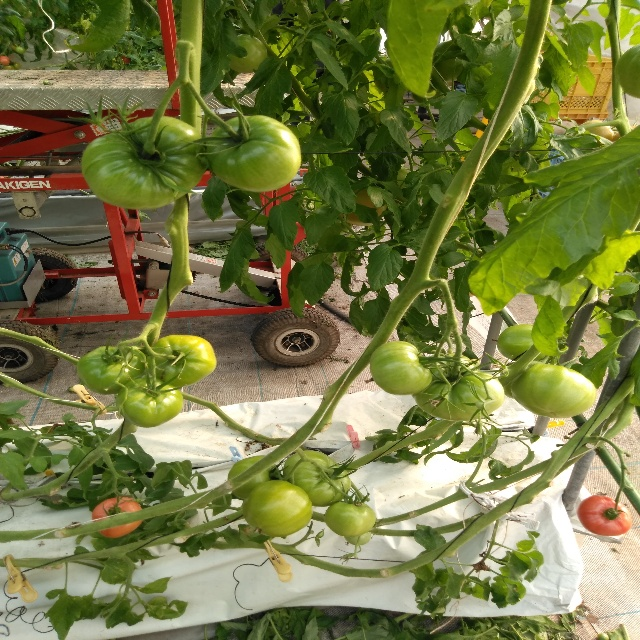b_fully_ripened: (576, 495, 632, 536)
b_green: (81, 116, 209, 209), (207, 115, 301, 193), (411, 353, 505, 421), (510, 363, 596, 418), (241, 480, 313, 538), (282, 450, 351, 508), (145, 334, 218, 387), (369, 340, 433, 396), (77, 346, 147, 395), (116, 377, 183, 428), (227, 455, 280, 500), (497, 325, 547, 362), (324, 502, 375, 537), (227, 34, 268, 73), (499, 361, 542, 398), (615, 44, 639, 99), (344, 530, 372, 545)
b_half_ripened: (91, 496, 143, 538)
